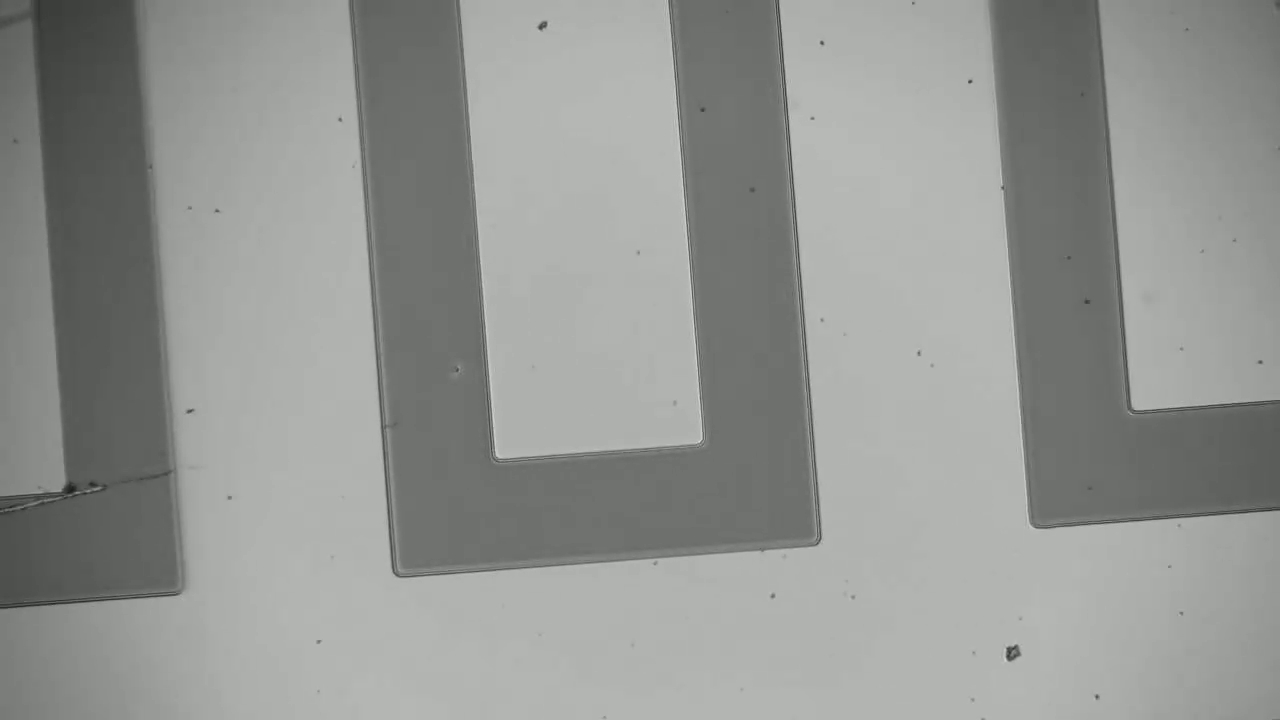scratch: (6, 473, 167, 514)
